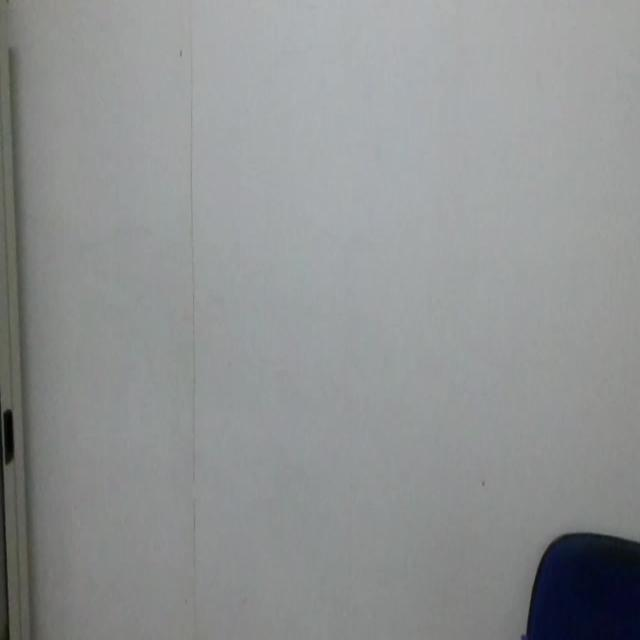Crack: (181, 0, 211, 640)
